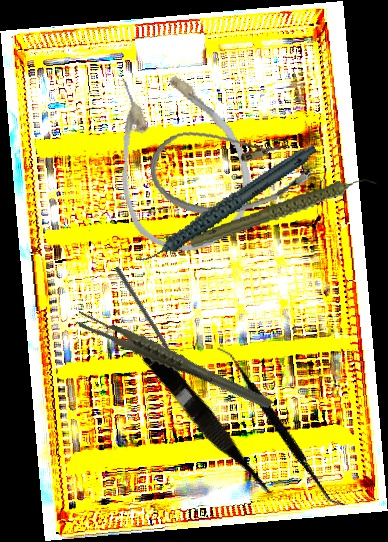Cannula: (91, 50, 267, 266), (145, 113, 316, 225)
Handpiece: (119, 143, 333, 266), (183, 176, 383, 249)
Micro Scissor: (137, 344, 280, 508)
Pusher: (113, 265, 182, 371)
Spatula Surgical: (179, 344, 384, 508)
Tissue Forceps: (72, 279, 274, 443)
